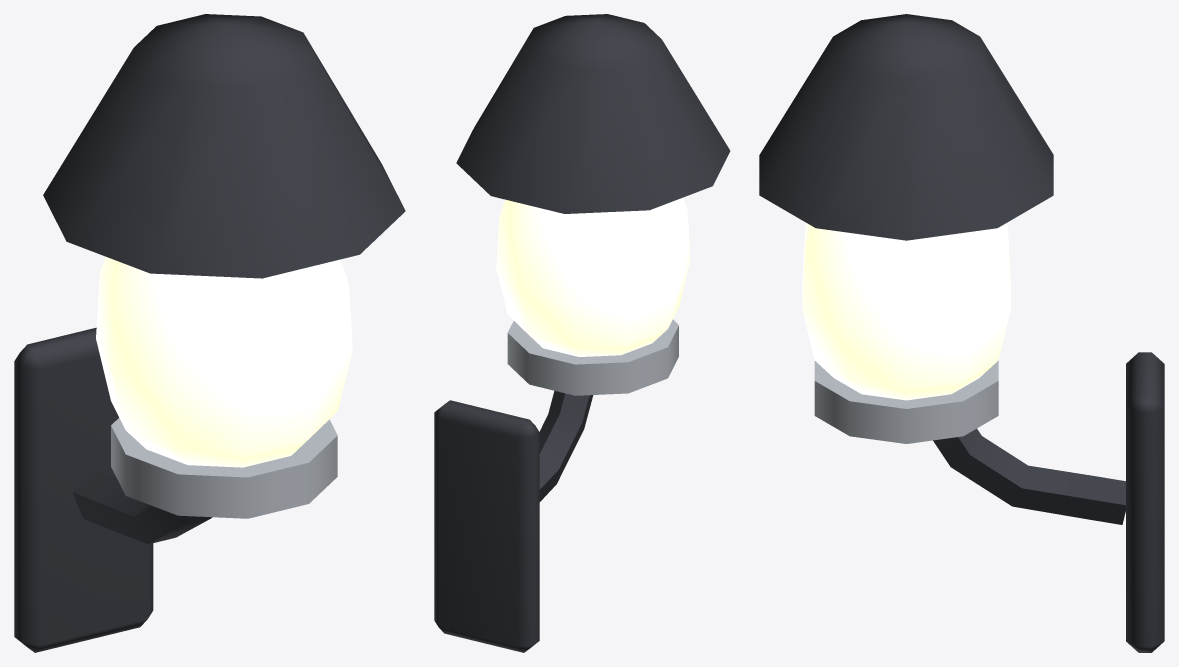
Rendered from wall_lamp.glb.
3 views of the same model, side by side, from view 1: azimuth 30°, elevation 25°; view 2: azimuth 150°, elevation 25°; view 3: azimuth 270°, elevation 25° (orthographic). The views are drawn at different scales.
Parts seen in each view (by area): view 1: wall_lamp; view 2: wall_lamp; view 3: wall_lamp.
Boxes of the visible parts, bbox=[...] form: wall_lamp: bbox=[14, 14, 405, 652]; wall_lamp: bbox=[434, 14, 730, 652]; wall_lamp: bbox=[759, 14, 1164, 652].
Size of the model in its own units: 0.24 by 0.52 by 0.3141.
